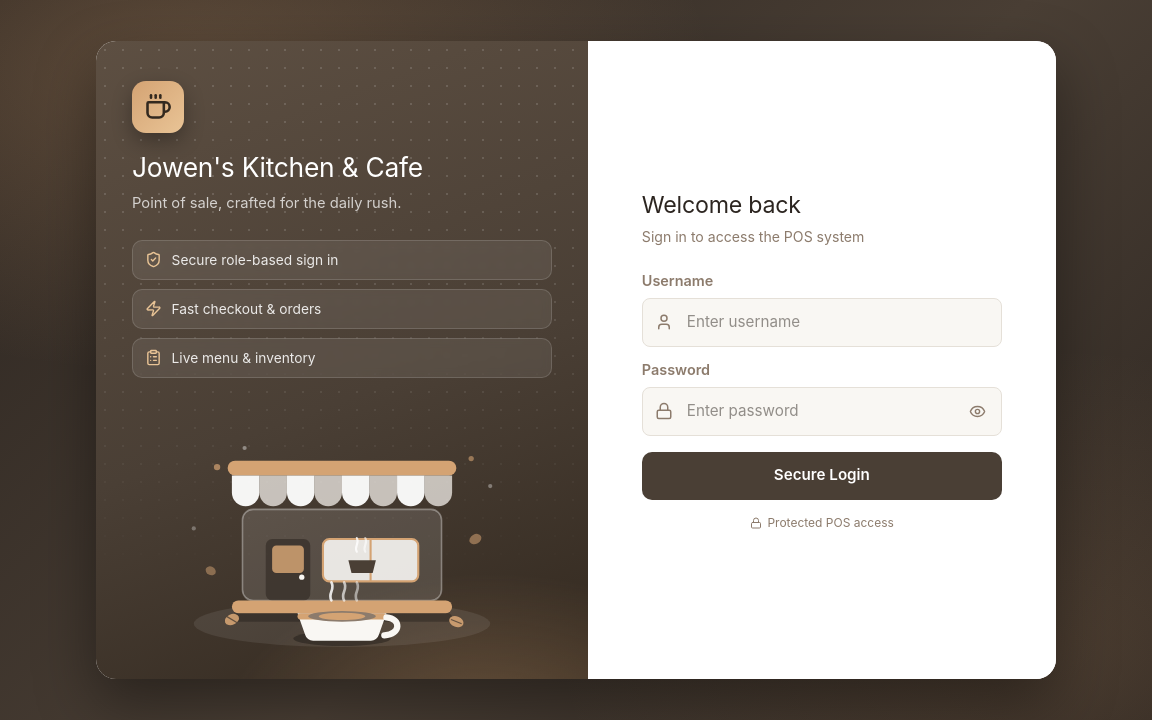
Test: Inventory Dashboard › renders inventory table with correct headers
Type "admin" into the field with test id "username-input" at coordinates (822, 322), box [642, 298, 1002, 347]
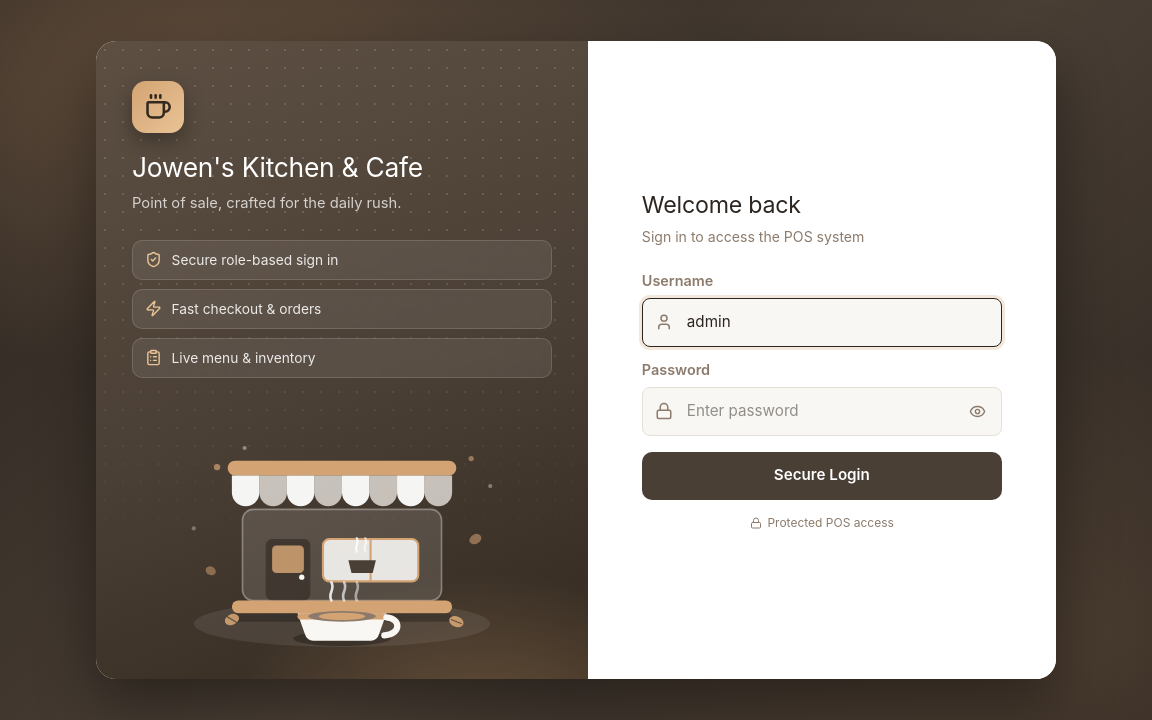
Type "admin123" into the password field with test id "password-input" at coordinates (822, 411), box [642, 387, 1002, 436]
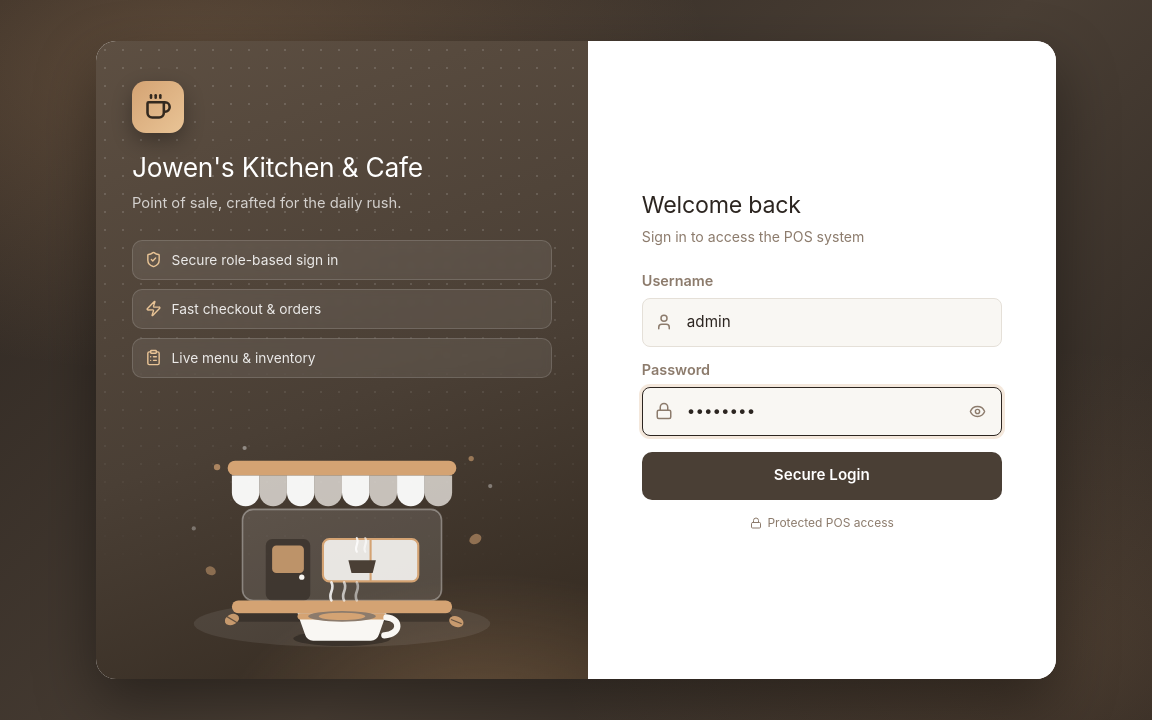
Click the button with test id "login-button" at coordinates (822, 476), box [642, 452, 1002, 500]
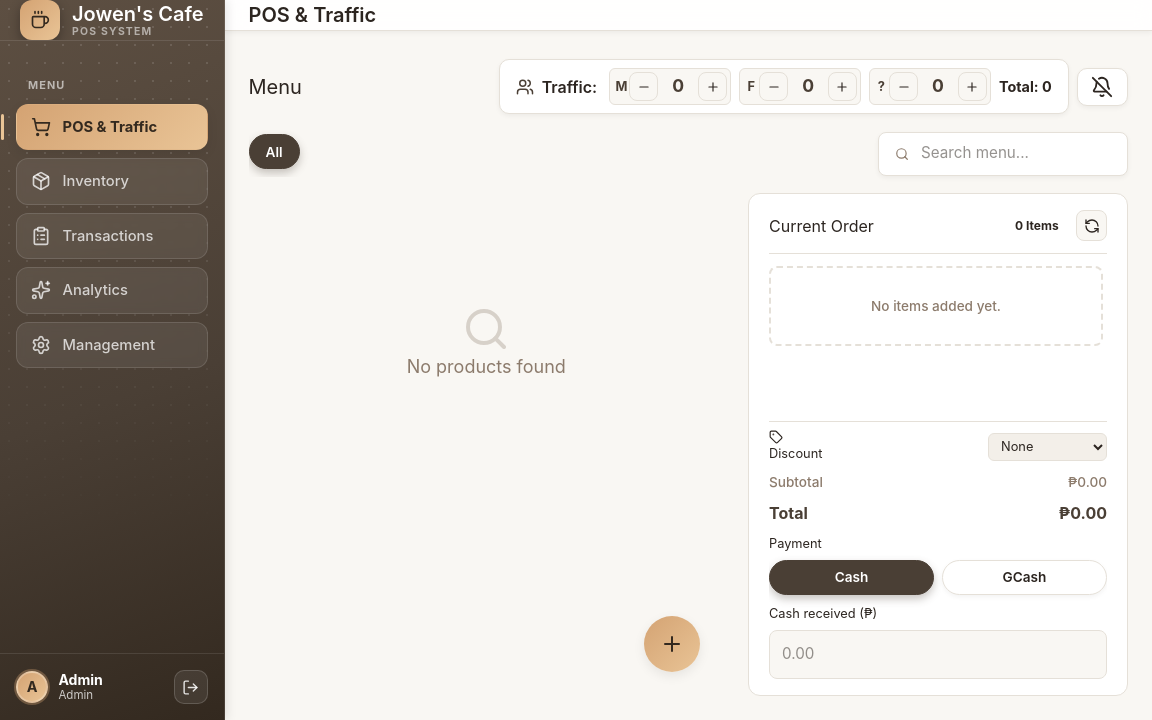
Check: the heading "Menu" is shown, box [248, 72, 302, 102]
Click the button "Inventory" at coordinates (112, 181), box [16, 158, 208, 205]
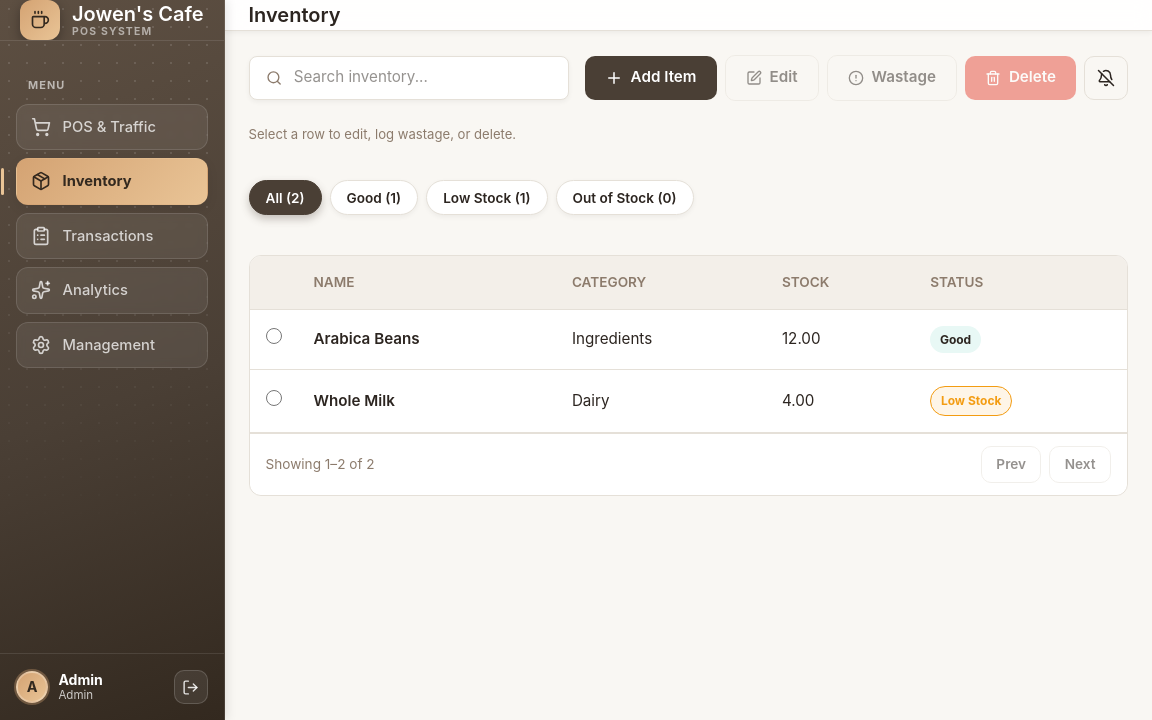
Check: the column heading "Name" is shown, box [298, 256, 556, 309]
Check: the column heading "Category" is shown, box [556, 256, 766, 309]
Check: the column heading "Stock" is shown, box [766, 256, 914, 309]
